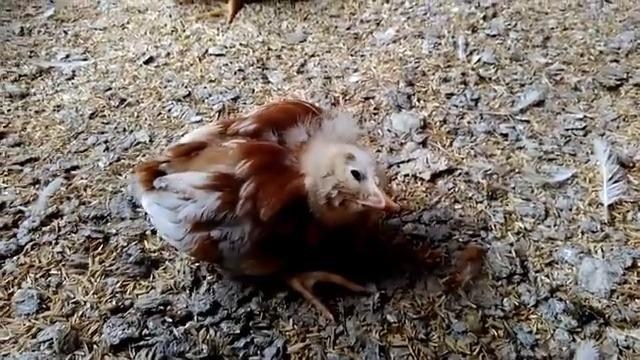AbNormal: (137, 102, 423, 322)
